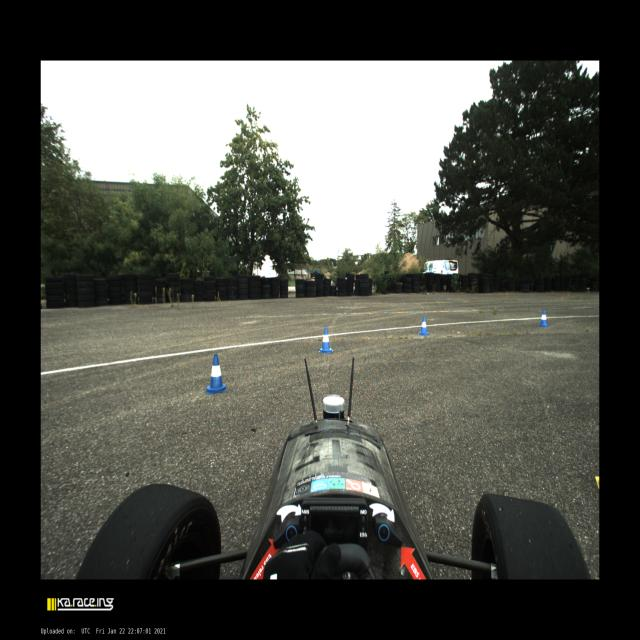blue_cone: (205, 354, 228, 394), (319, 328, 333, 353), (419, 316, 429, 336), (538, 310, 548, 327)
